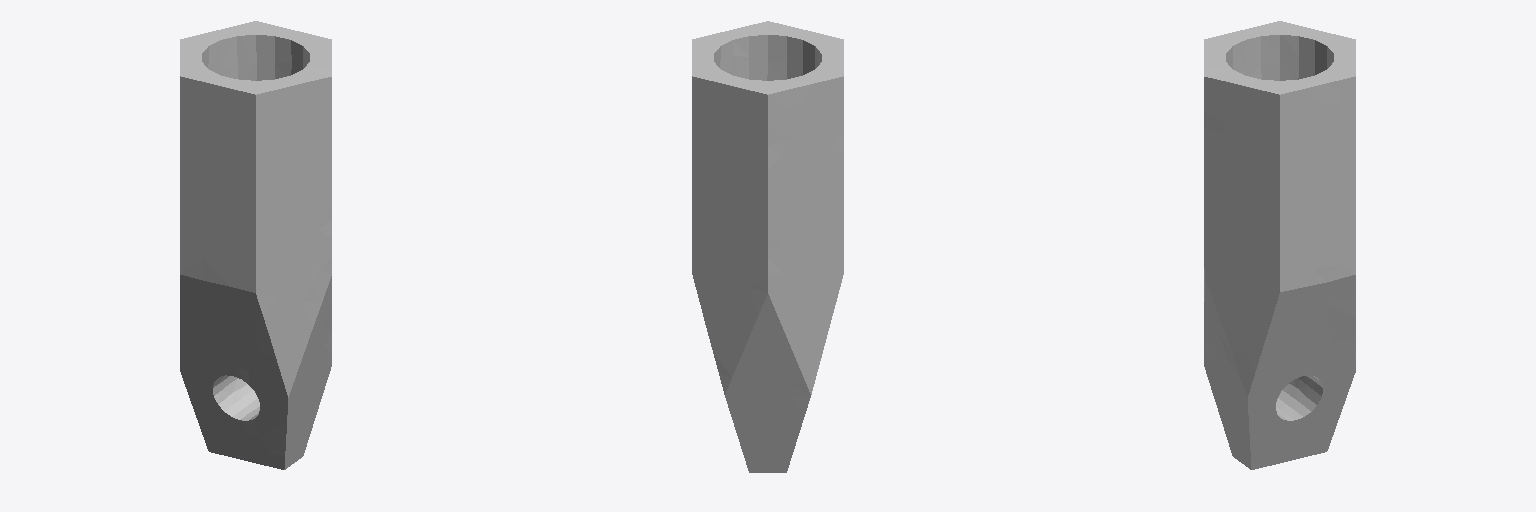
The model's file is Arm-Shoulder_Flat.stl__sf.obj.
The picture shows the model from 3 angles: view 1: azimuth 30°, elevation 25°; view 2: azimuth 150°, elevation 25°; view 3: azimuth 270°, elevation 25°; orthographic projection.
Bounding box in the file's own units: 20.32 × 50.8 × 17.6.